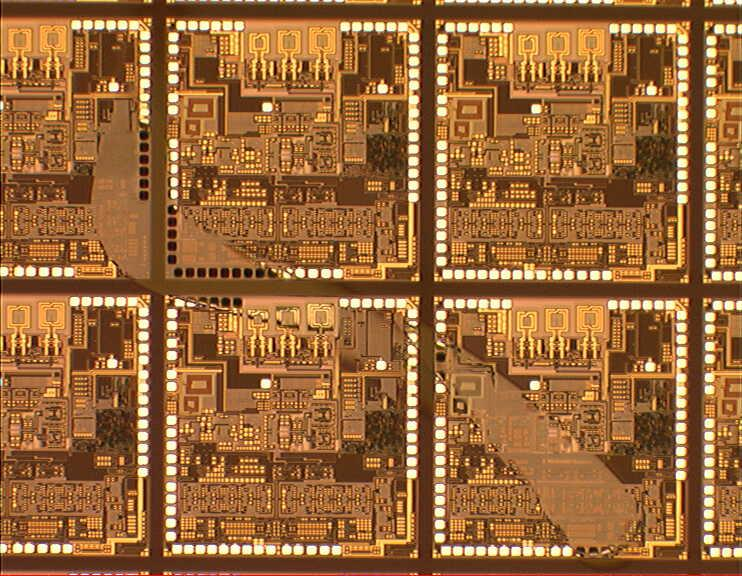COATING BAD: (89, 96, 646, 558)
